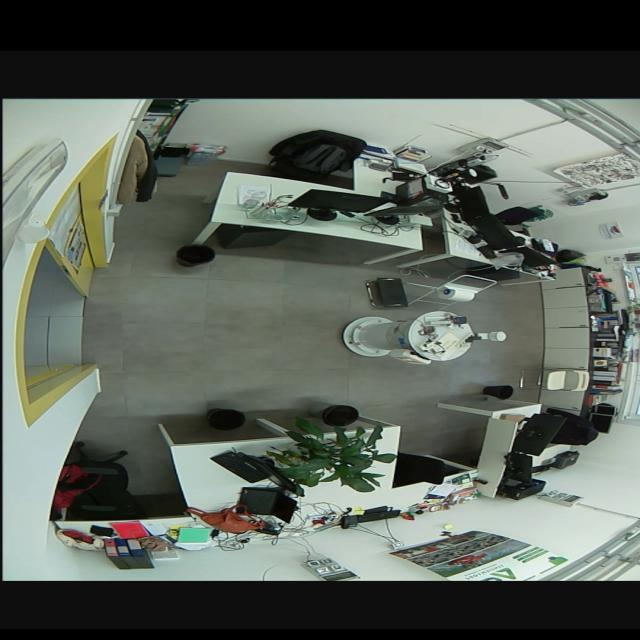Open: (16, 249, 100, 385)
